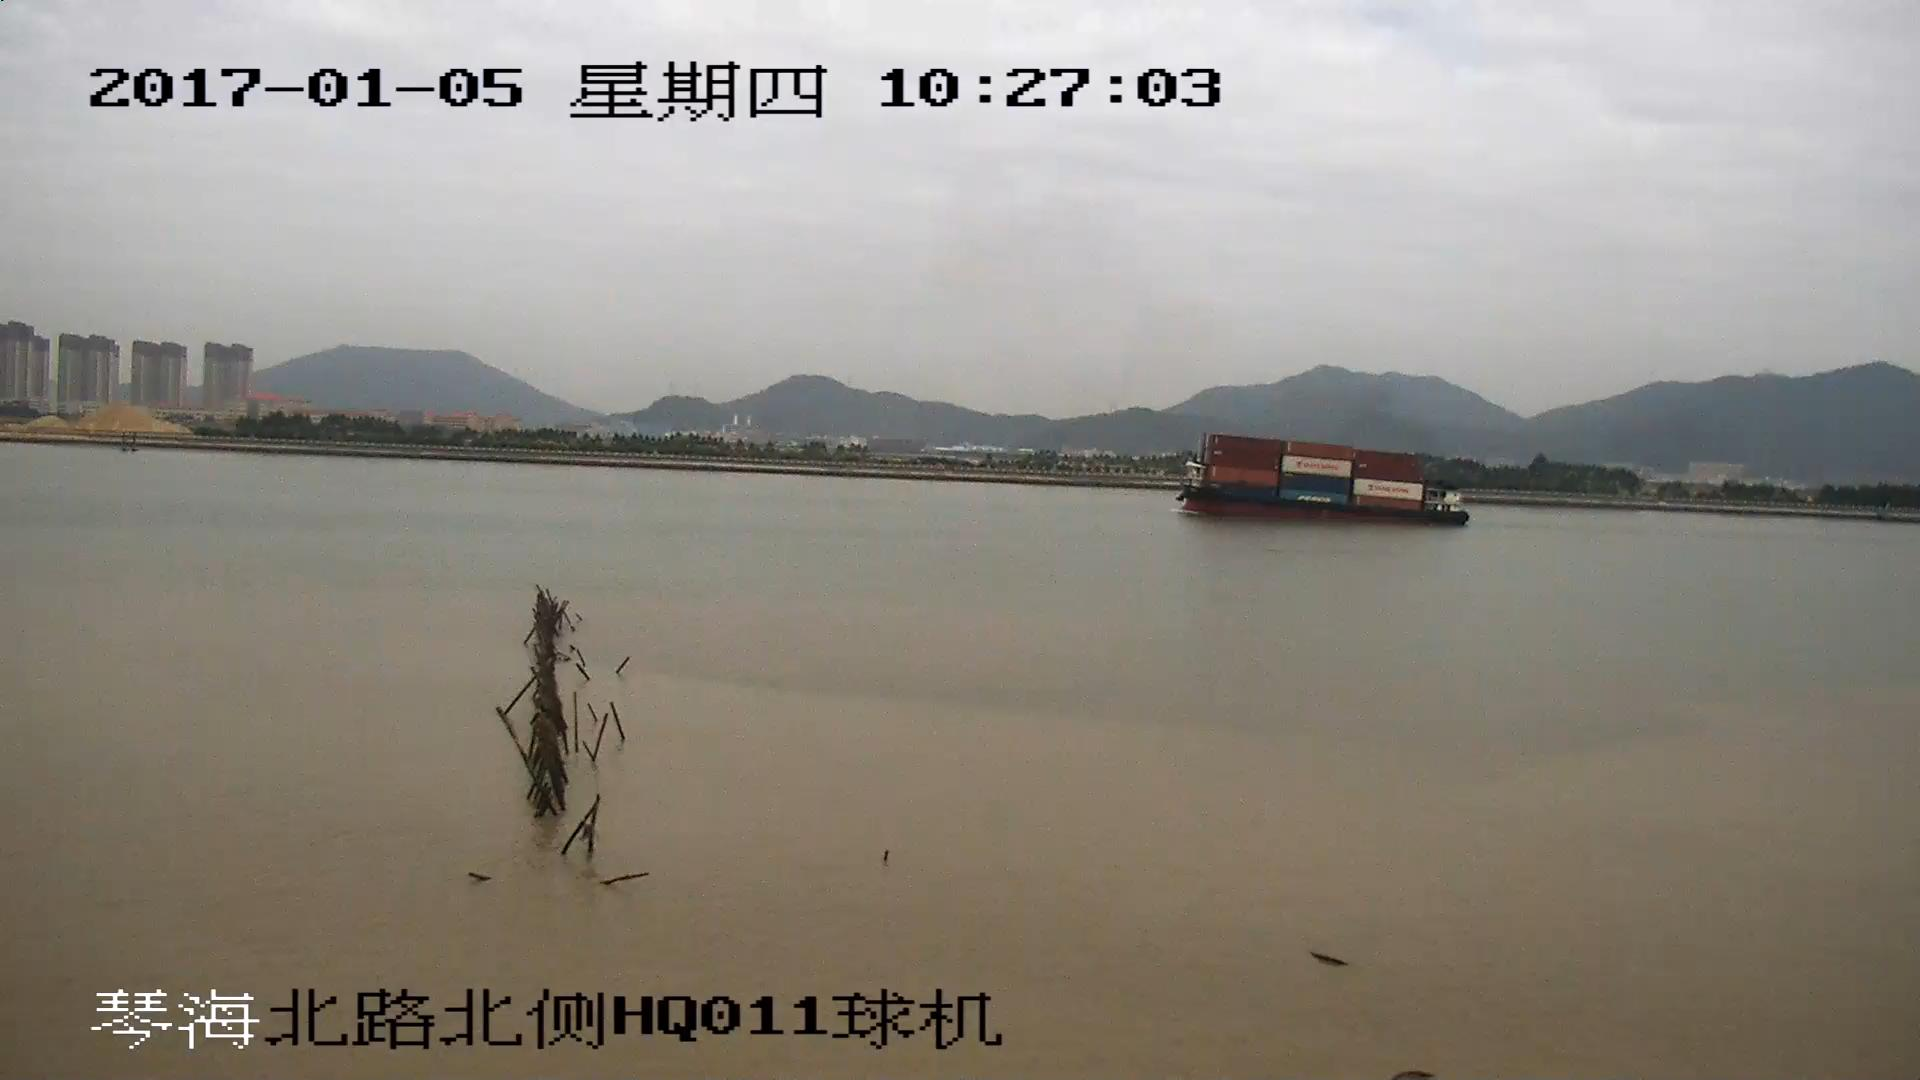container ship: (1178, 432, 1470, 527)
